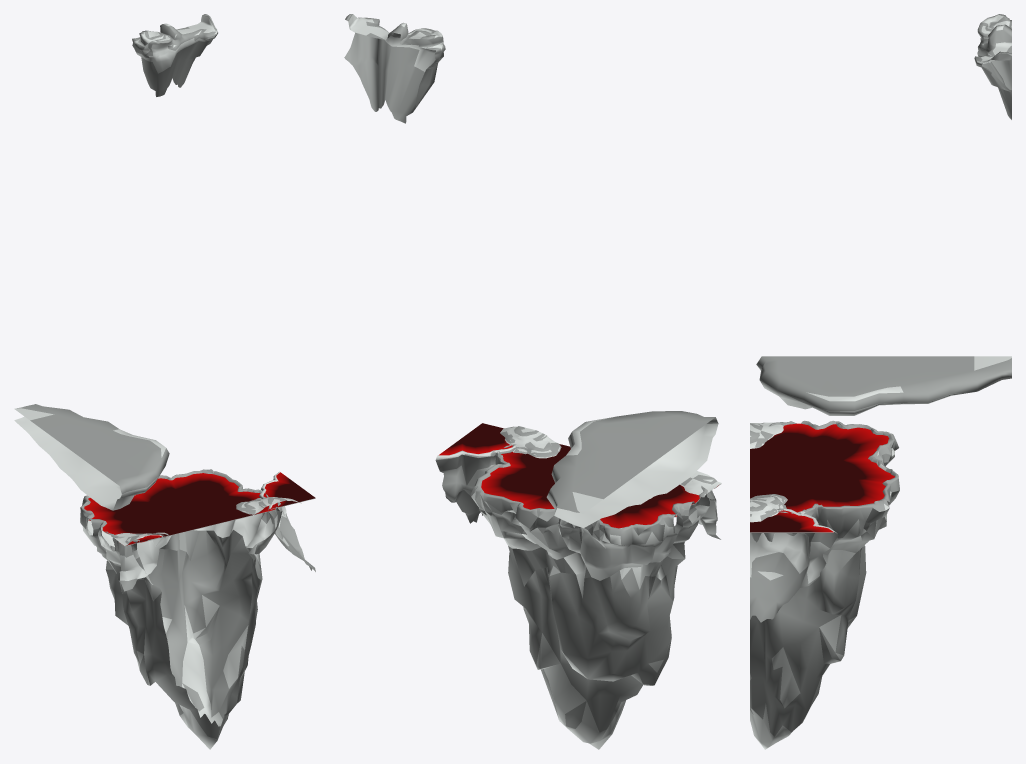
The picture shows the model from 3 angles, left to right: view 1: azimuth 30°, elevation 25°; view 2: azimuth 150°, elevation 25°; view 3: azimuth 270°, elevation 25°; orthographic projection. The views are drawn at different scales.
Parts seen in each view (by area): view 1: G:\FFXIV-MapTools\exports\a2f1\bg\ex1\03_abr_a2\fld\a2f1\bgp (×10); view 2: G:\FFXIV-MapTools\exports\a2f1\bg\ex1\03_abr_a2\fld\a2f1\bgp (×11); view 3: G:\FFXIV-MapTools\exports\a2f1\bg\ex1\03_abr_a2\fld\a2f1\bgp (×12).
Part boxes in pixels (x1,y1,x2,y2): G:\FFXIV-MapTools\exports\a2f1\bg\ex1\03_abr_a2\fld\a2f1\bgp (×10): (14, 14, 315, 749); G:\FFXIV-MapTools\exports\a2f1\bg\ex1\03_abr_a2\fld\a2f1\bgp (×11): (344, 14, 721, 749); G:\FFXIV-MapTools\exports\a2f1\bg\ex1\03_abr_a2\fld\a2f1\bgp (×12): (750, 14, 1011, 749).
Bounding box in the file's own units: 128 × 408 × 128.
